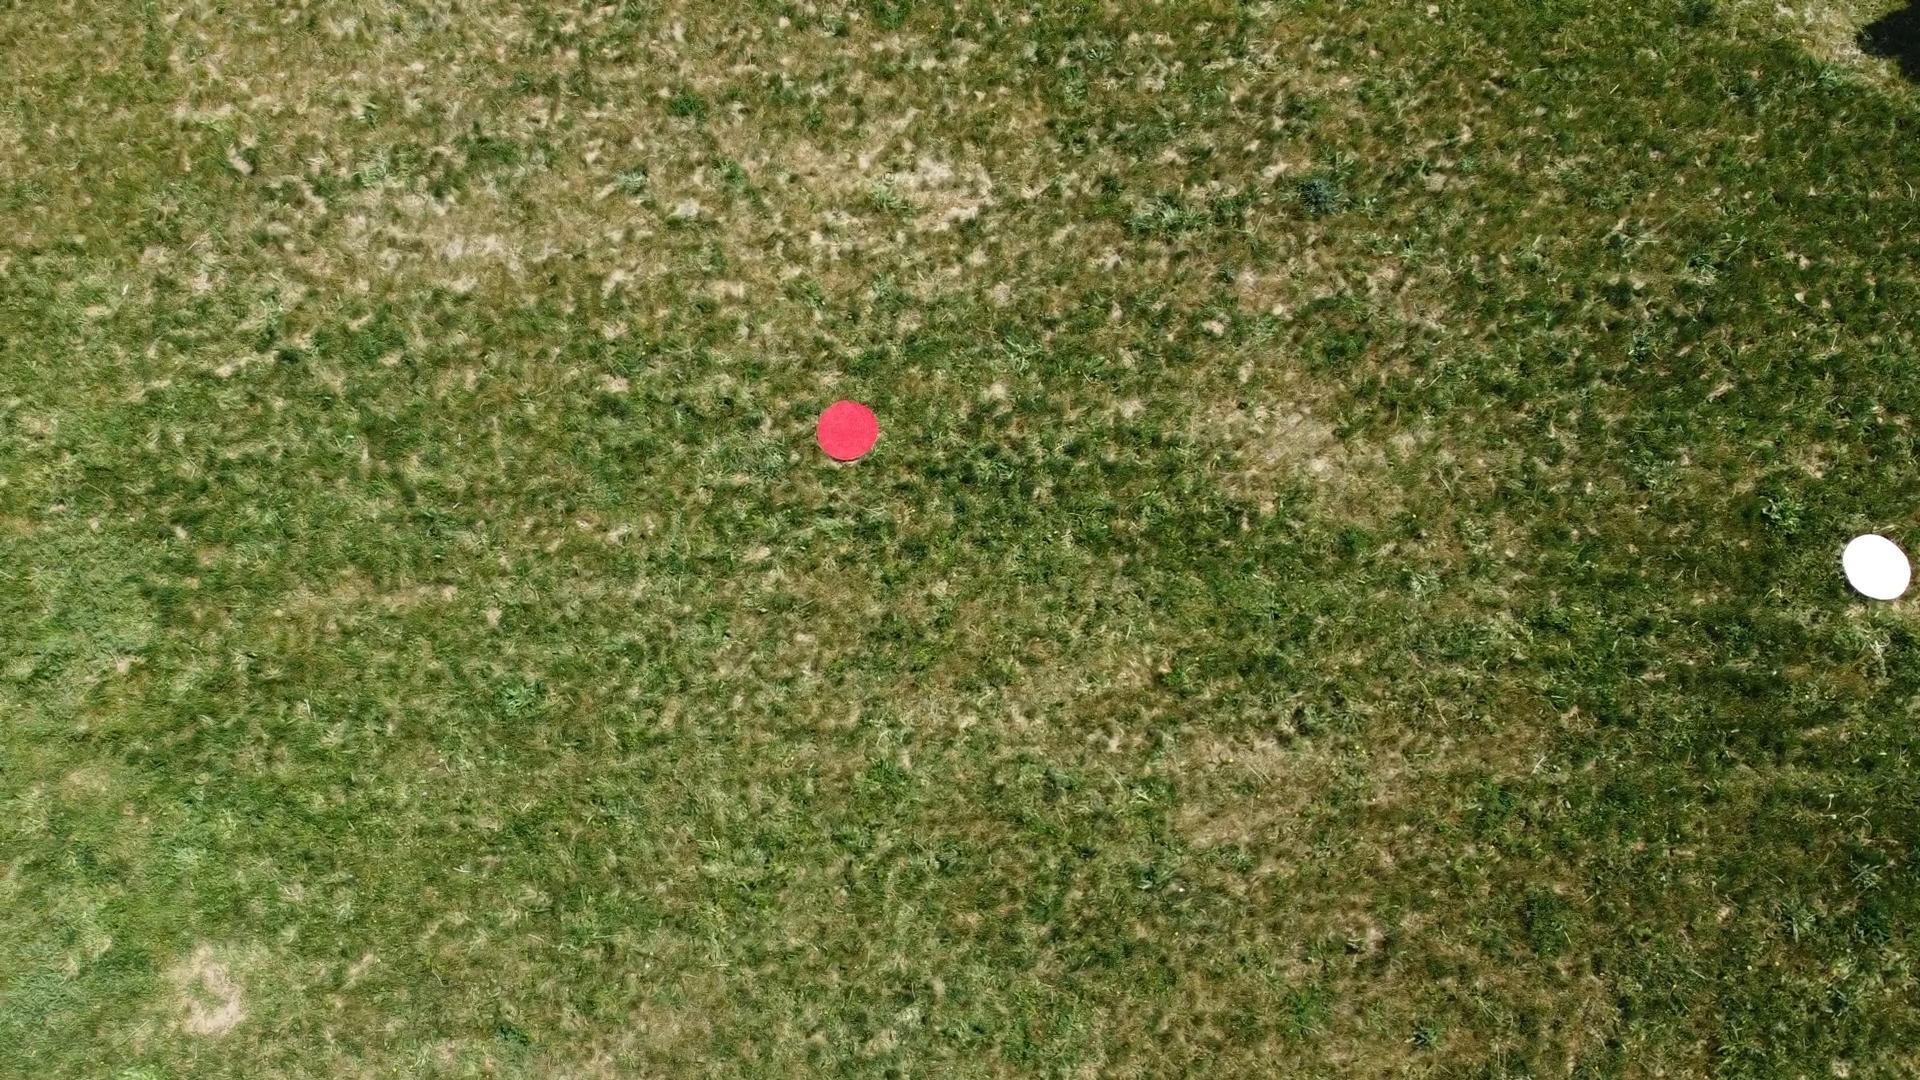Red: (814, 400, 884, 464)
Unknown: (1838, 533, 1917, 603)
